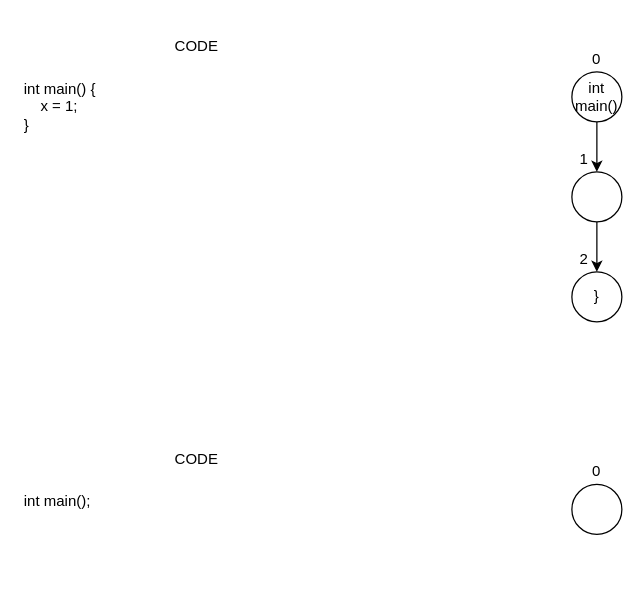
The diagram is 644 pixels wide and 605 high, and some of its shapes have lost their labels. Here are the shapes that lost their labels. From the top down, the centre of each, then its label:
At point 596,196: "x = 1".
At point 596,508: "int main() ;".
